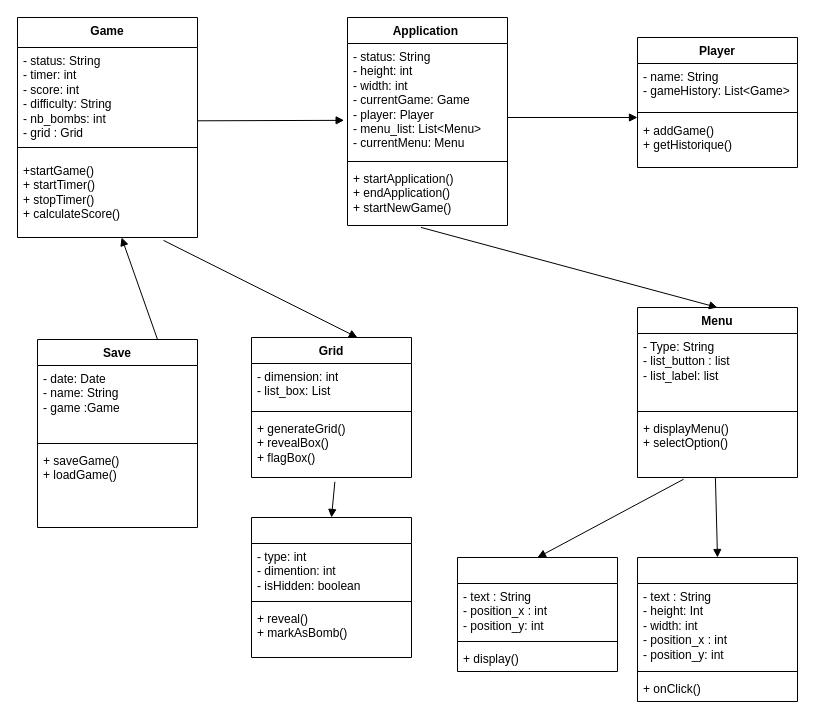
Some shapes in this 815 by 722 pixel diagram are drawn without their labels. The box of each missing label's shape, as (x1, y1, x2, y2) in pixels:
Box: (250, 516, 412, 658)
Button: (636, 556, 798, 702)
Label: (456, 556, 618, 672)
